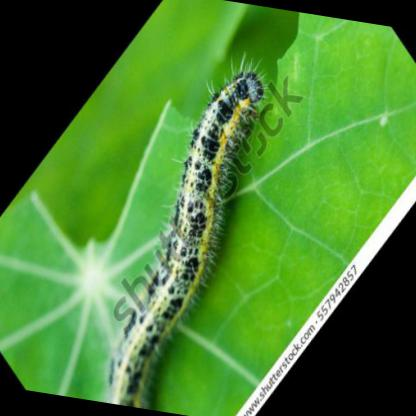pieris: (111, 62, 269, 406)
